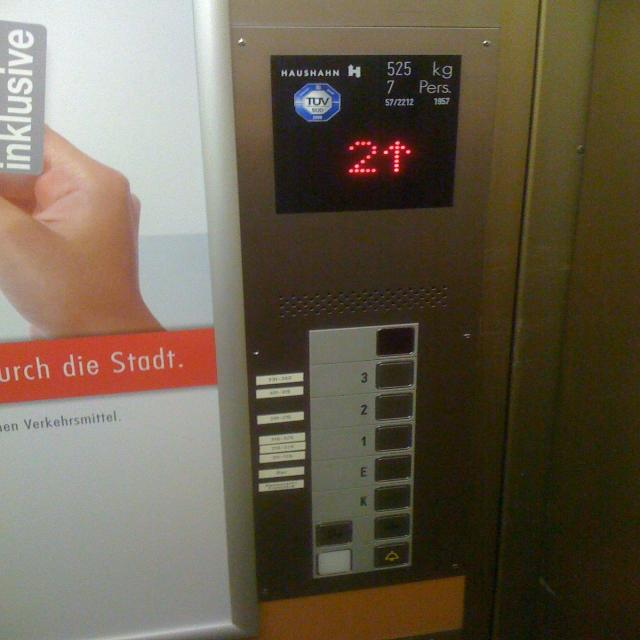1: (355, 418, 419, 455)
2: (355, 387, 419, 426)
3: (354, 356, 419, 394)
E: (353, 450, 417, 485)
K: (350, 481, 415, 515)
alarm: (372, 540, 411, 570)
blur: (371, 510, 412, 542), (314, 520, 354, 548)
empty: (352, 322, 420, 362), (314, 547, 353, 576)
led: (263, 48, 465, 216)
